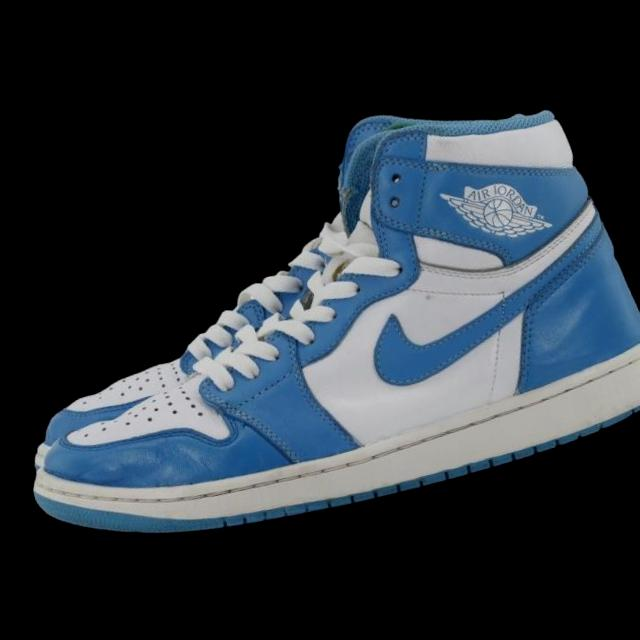nike_original_jordan: (0, 78, 640, 601)
